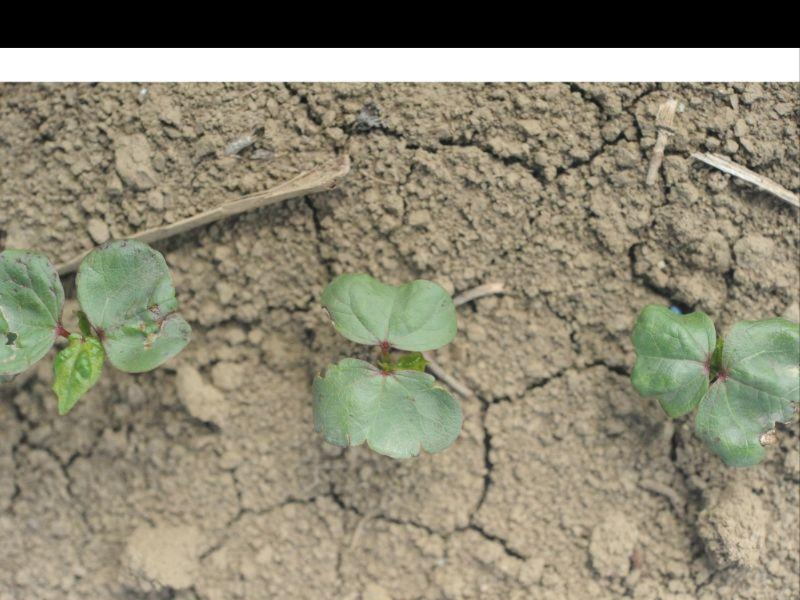cotton: (0, 240, 188, 416), (308, 269, 463, 459), (626, 304, 799, 469)
